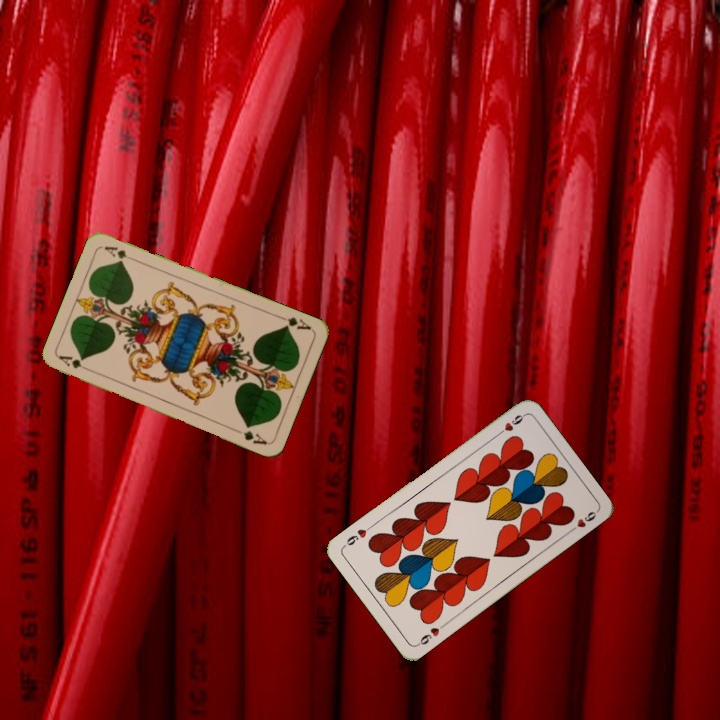GA: (55, 351, 94, 374), (275, 311, 313, 332)
H9: (492, 410, 527, 439), (413, 620, 448, 648)
